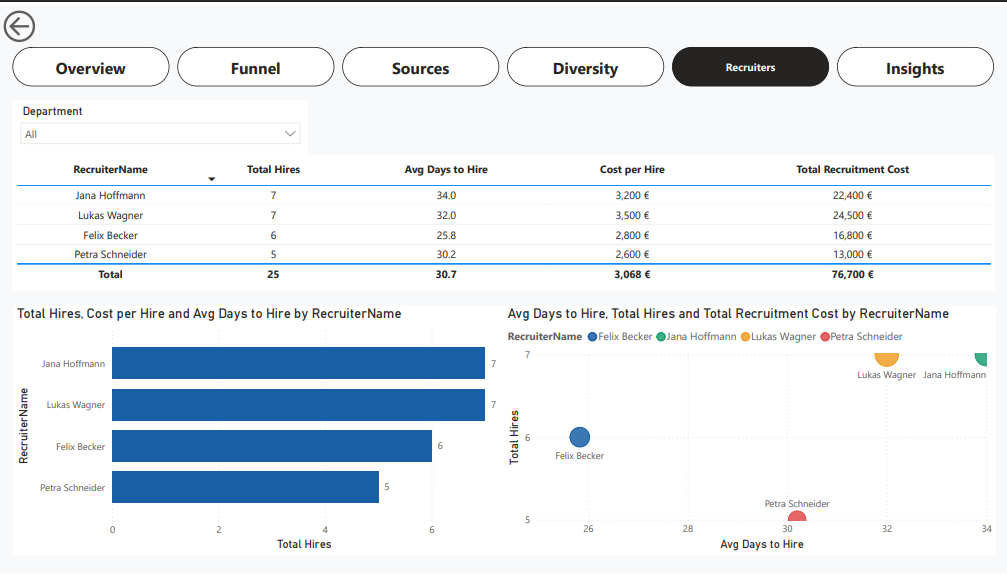

The dashboard page shown, as its layout file describes it:
{"tool":"powerbi","page":{"name":"Recruiters","canvas":[1280,720],"ordinal":4},"visuals":[{"type":"tableEx","fields":{"Values":["Recruiters.RecruiterName","_Measures.Total Hires","_Measures.Avg Days to Hire","_Measures.Cost per Hire","_Measures.Total Recruitment Cost"]},"box":[16.7,190,1245,170],"z":0},{"type":"clusteredBarChart","fields":{"Category":["Recruiters.RecruiterName"],"Y":["_Measures.Total Hires"]},"box":[18.3,380,621.7,315],"z":1000},{"type":"scatterChart","fields":{"X":["_Measures.Avg Days to Hire"],"Y":["_Measures.Total Hires"],"Size":["_Measures.Total Recruitment Cost"],"Series":["Recruiters.RecruiterName"]},"box":[640,380,623.3,315],"z":2000},{"type":"slicer","fields":{"Values":["Recruiters.Department"]},"box":[16.7,120,375,70],"z":3000},{"type":"pageNavigator","box":[16.7,51.7,1245,50],"z":4000},{"type":"actionButton","box":[0,0,51.7,51.7],"z":5000}]}

Visuals, with their boxes in screenshot pixels (x1, y1, x2, y2), scaled from the page's 1280x720 canvas onto the 1007x577 screenshot:
tableEx - Recruiters.RecruiterName x _Measures.Total Hires: <region>13, 152, 993, 288</region>
clusteredBarChart - Recruiters.RecruiterName x _Measures.Total Hires: <region>14, 305, 504, 557</region>
scatterChart - _Measures.Avg Days to Hire x _Measures.Total Hires: <region>504, 305, 994, 557</region>
slicer - Recruiters.Department: <region>13, 96, 308, 152</region>
pageNavigator: <region>13, 41, 993, 82</region>
actionButton: <region>0, 0, 41, 41</region>
